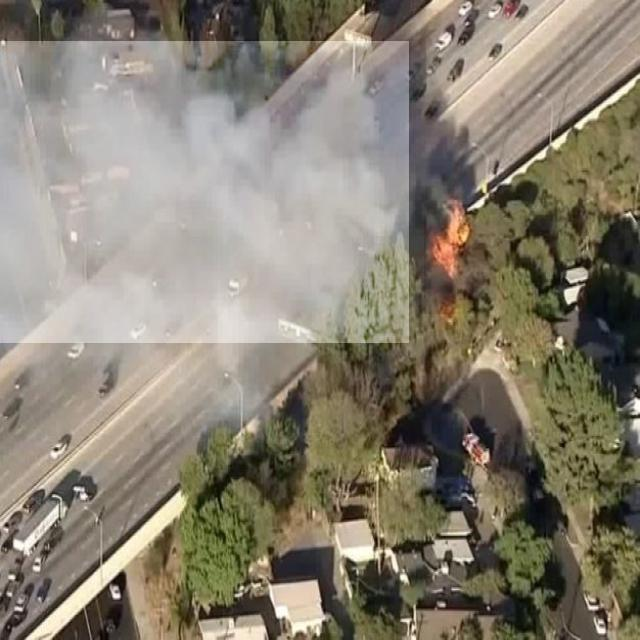Fire: (424, 204, 474, 314)
Smoke: (0, 41, 409, 343)
